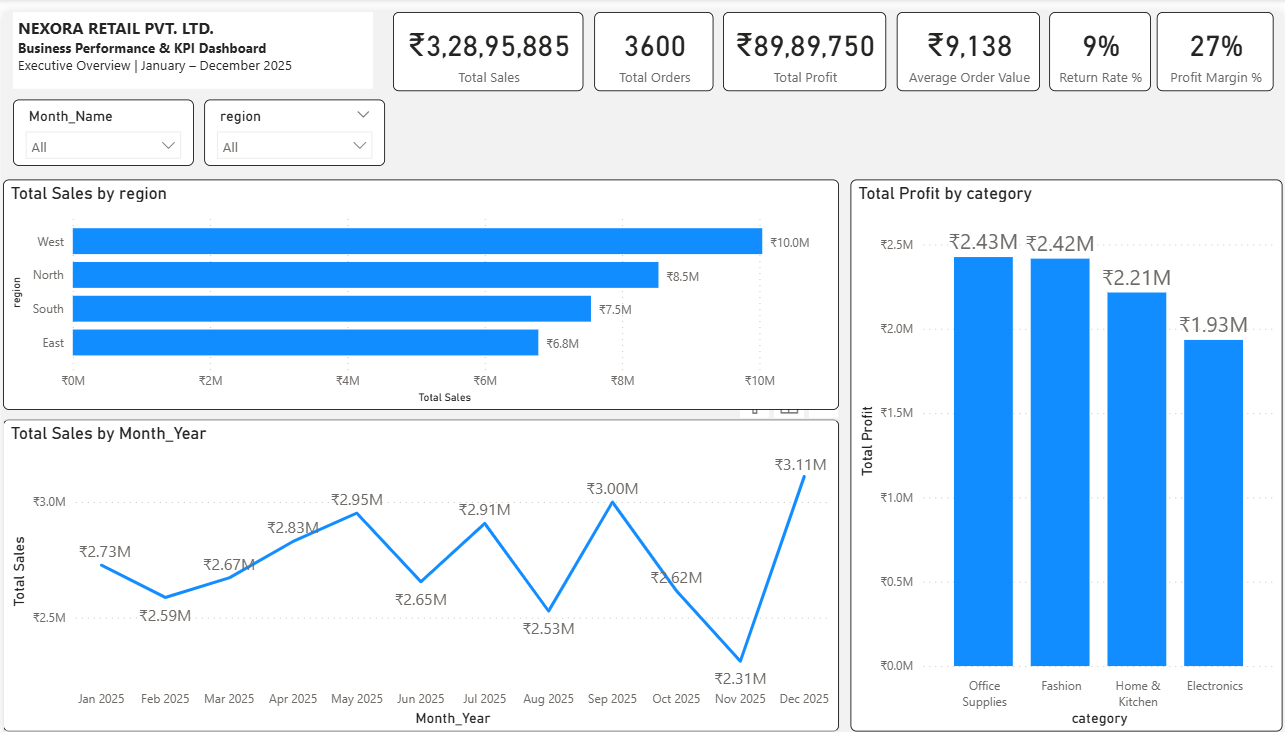

Layout of this report page (visuals, bound fields, positions):
{"tool":"powerbi","page":{"name":"Executive Overview","canvas":[1280,720],"ordinal":0},"visuals":[{"type":"textbox","box":[10,0,360,77.1],"z":0},{"type":"card","fields":{"Values":["Sales_Transactions.Profit Margin %"]},"box":[1154.2,0,117,79.6],"z":1000},{"type":"card","fields":{"Values":["Sales_Transactions.Average Order Value"]},"box":[893.7,0,143.5,79.6],"z":2000},{"type":"card","fields":{"Values":["Returns.Return Rate %"]},"box":[1046.1,0,101.3,79.6],"z":3000},{"type":"card","fields":{"Values":["Sales_Transactions.Total Orders"]},"box":[590.7,0,119.4,79.6],"z":4000},{"type":"card","fields":{"Values":["Sales_Transactions.Total Profit"]},"box":[719.8,0,162.8,79.6],"z":5000},{"type":"card","fields":{"Values":["Sales_Transactions.Total Sales"]},"box":[390.5,0,190.6,79.6],"z":6000},{"type":"slicer","fields":{"Values":["Calendar.Month_Name"]},"box":[9.6,88,180.9,66.3],"z":7000},{"type":"slicer","fields":{"Values":["Sales_Transactions.region"]},"box":[201.4,88,180.9,66.3],"z":8000},{"type":"lineChart","fields":{"Category":["Calendar.Month_Year"],"Y":["Sales_Transactions.Total Sales"]},"box":[0,407.6,835.8,312.4],"z":9000},{"type":"clusteredBarChart","fields":{"Category":["Sales_Transactions.region"],"Y":["Sales_Transactions.Total Sales"]},"box":[0,167.6,835.8,230.4],"z":10000},{"type":"clusteredColumnChart","fields":{"Category":["Products.category"],"Y":["Sales_Transactions.Total Profit"]},"box":[847.8,167.6,431.8,552.4],"z":11000}]}

Visuals, with their boxes in screenshot pixels (x1, y1, x2, y2), scaled from the page's 1280x720 canvas onto the 1285x732 screenshot:
textbox: [left=10, top=0, right=371, bottom=78]
card - Sales_Transactions.Profit Margin %: [left=1159, top=0, right=1276, bottom=81]
card - Sales_Transactions.Average Order Value: [left=897, top=0, right=1041, bottom=81]
card - Returns.Return Rate %: [left=1050, top=0, right=1152, bottom=81]
card - Sales_Transactions.Total Orders: [left=593, top=0, right=713, bottom=81]
card - Sales_Transactions.Total Profit: [left=723, top=0, right=886, bottom=81]
card - Sales_Transactions.Total Sales: [left=392, top=0, right=583, bottom=81]
slicer - Calendar.Month_Name: [left=10, top=89, right=191, bottom=157]
slicer - Sales_Transactions.region: [left=202, top=89, right=384, bottom=157]
lineChart - Calendar.Month_Year x Sales_Transactions.Total Sales: [left=0, top=414, right=839, bottom=731]
clusteredBarChart - Sales_Transactions.region x Sales_Transactions.Total Sales: [left=0, top=170, right=839, bottom=405]
clusteredColumnChart - Products.category x Sales_Transactions.Total Profit: [left=851, top=170, right=1284, bottom=731]
